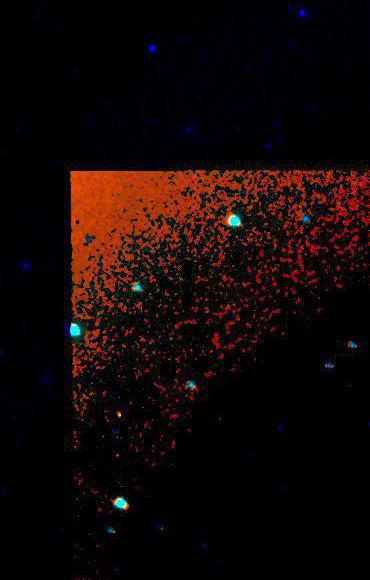star: (104, 397, 134, 427)
